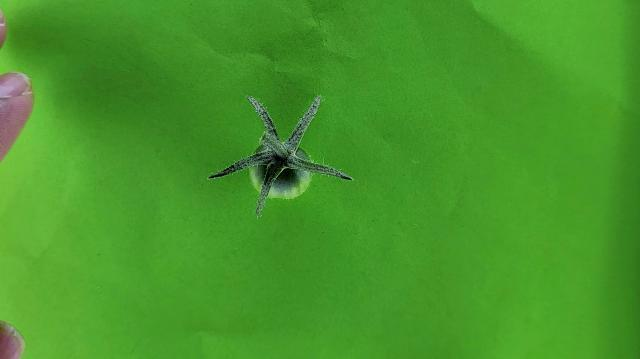Fruit Maturation: (246, 143, 314, 200)
